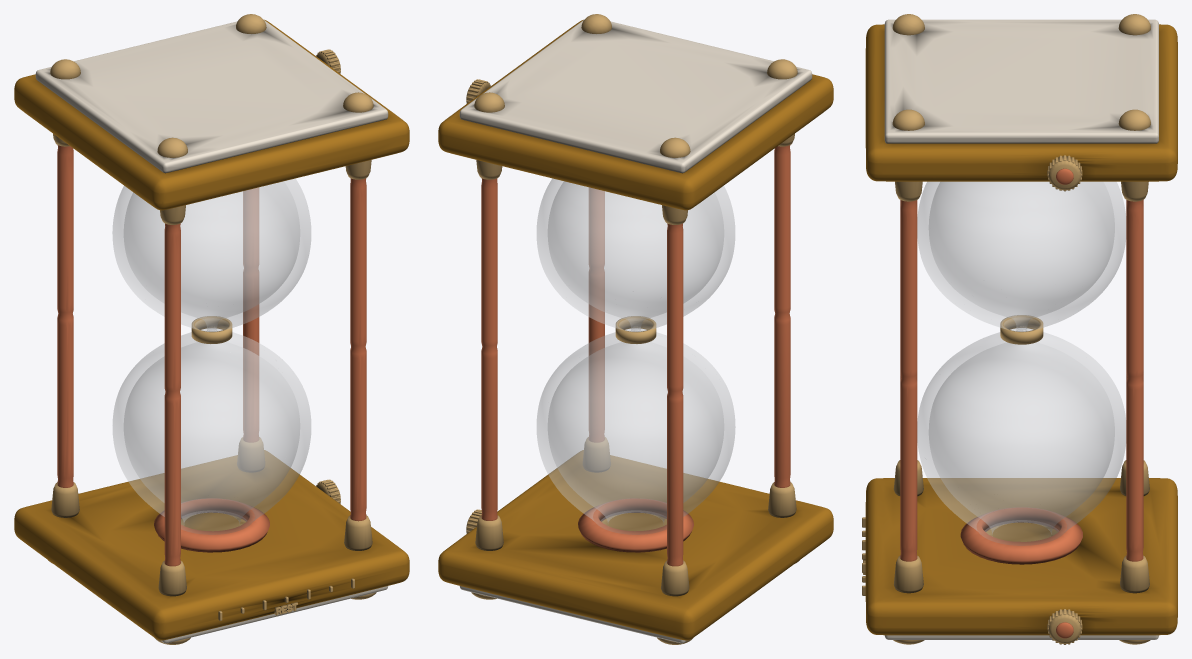
The model's file is hourglass.glb.
The picture shows the model from 3 angles, left to right: view 1: azimuth 30°, elevation 25°; view 2: azimuth 150°, elevation 25°; view 3: azimuth 270°, elevation 25°; orthographic projection. The views are drawn at different scales.
Visible parts, largest first — view 1: glass, slab, panel.001, slab.001, post.002, post, post.001, post.003, cup, neckRing, panel, sleeve (+3 smaller); view 2: glass, slab, panel.001, slab.001, post.003, post.001, post, post.002, cup, neckRing, panel, sleeve.002 (+3 smaller); view 3: glass, slab, panel.001, slab.001, post.002, post.003, cup, panel, neckRing, sleeve.004, sleeve.006, knob.001 (+7 smaller).
Boxes of the visible parts, x1,y1,x2,y2 form: glass: [112, 178, 310, 534]; slab: [14, 450, 409, 640]; panel.001: [35, 19, 388, 173]; slab.001: [14, 19, 409, 210]; post.002: [350, 178, 366, 521]; post: [164, 223, 180, 566]; post.001: [57, 145, 73, 487]; post.003: [243, 187, 259, 442]; cup: [154, 498, 269, 552]; neckRing: [191, 316, 232, 343]; panel: [161, 586, 388, 643]; sleeve: [158, 560, 186, 596]; glass: [537, 178, 735, 534]; slab: [438, 450, 833, 640]; panel.001: [459, 20, 812, 173]; slab.001: [438, 19, 833, 210]; post.003: [481, 178, 497, 520]; post.001: [667, 223, 683, 566]; post: [774, 145, 790, 487]; post.002: [588, 187, 604, 442]; cup: [578, 498, 693, 552]; neckRing: [615, 316, 656, 343]; panel: [459, 586, 687, 643]; sleeve.002: [661, 560, 689, 596]; glass: [917, 181, 1125, 545]; slab: [865, 478, 1177, 635]; panel.001: [884, 19, 1158, 143]; slab.001: [865, 24, 1177, 181]; post.002: [900, 200, 917, 561]; post.003: [1126, 200, 1143, 561]; cup: [960, 507, 1082, 564]; panel: [884, 635, 1158, 639]; neckRing: [1000, 315, 1043, 344]; sleeve.004: [893, 555, 923, 593]; sleeve.006: [1120, 555, 1149, 593]; knob.001: [1048, 156, 1080, 190].
Size of the model in its own units: 0.6199 by 1.09 by 0.587.
